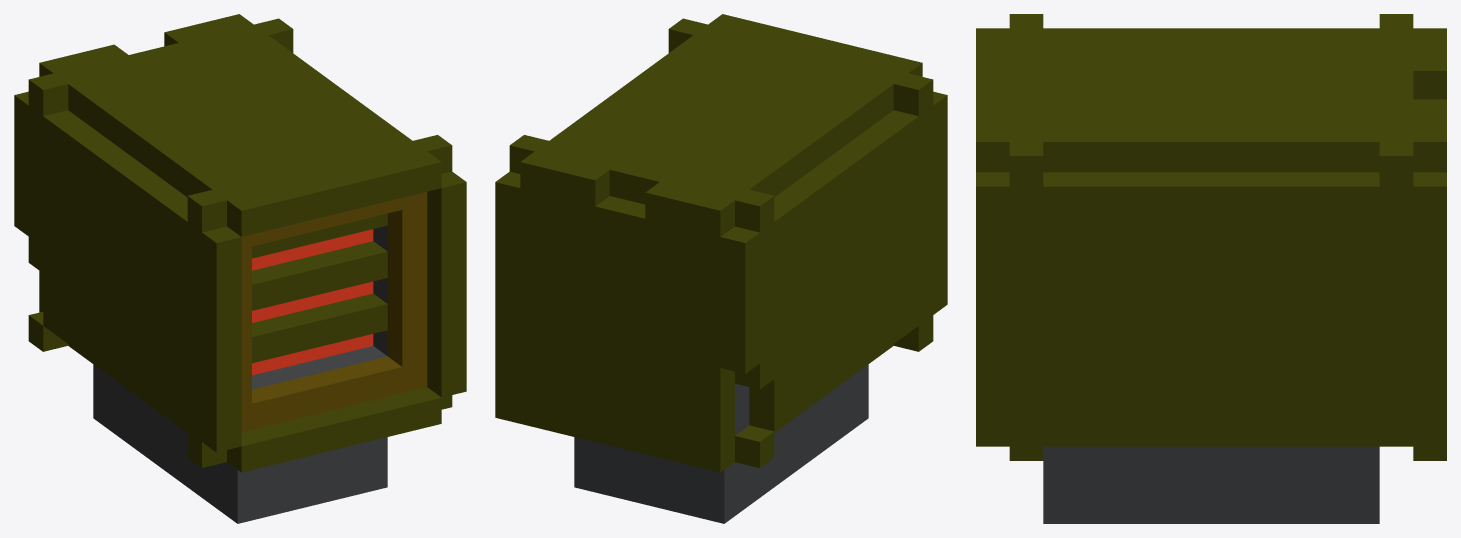
The model's file is Other12.fbx.
3 views of the same model, side by side, from view 1: azimuth 30°, elevation 25°; view 2: azimuth 150°, elevation 25°; view 3: azimuth 270°, elevation 25° (orthographic). The views are drawn at different scales.
Visible parts, largest first — view 1: Other12; view 2: Other12; view 3: Other12.
Boxes of the visible parts, bbox=[...] form: Other12: bbox=[14, 14, 466, 523]; Other12: bbox=[495, 14, 947, 523]; Other12: bbox=[976, 14, 1446, 523].
Size of the model in its own units: 50 by 65 by 70.
